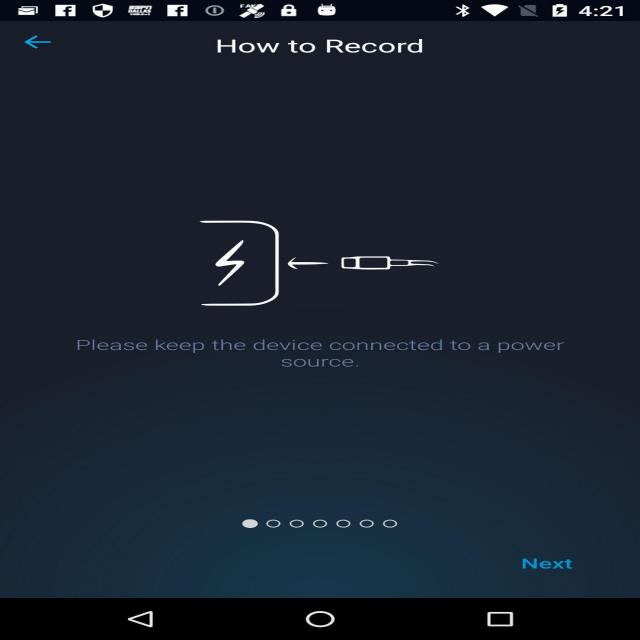button: (508, 544, 589, 583)
image: (137, 202, 470, 322)
text: (58, 332, 574, 383), (206, 32, 487, 68)
